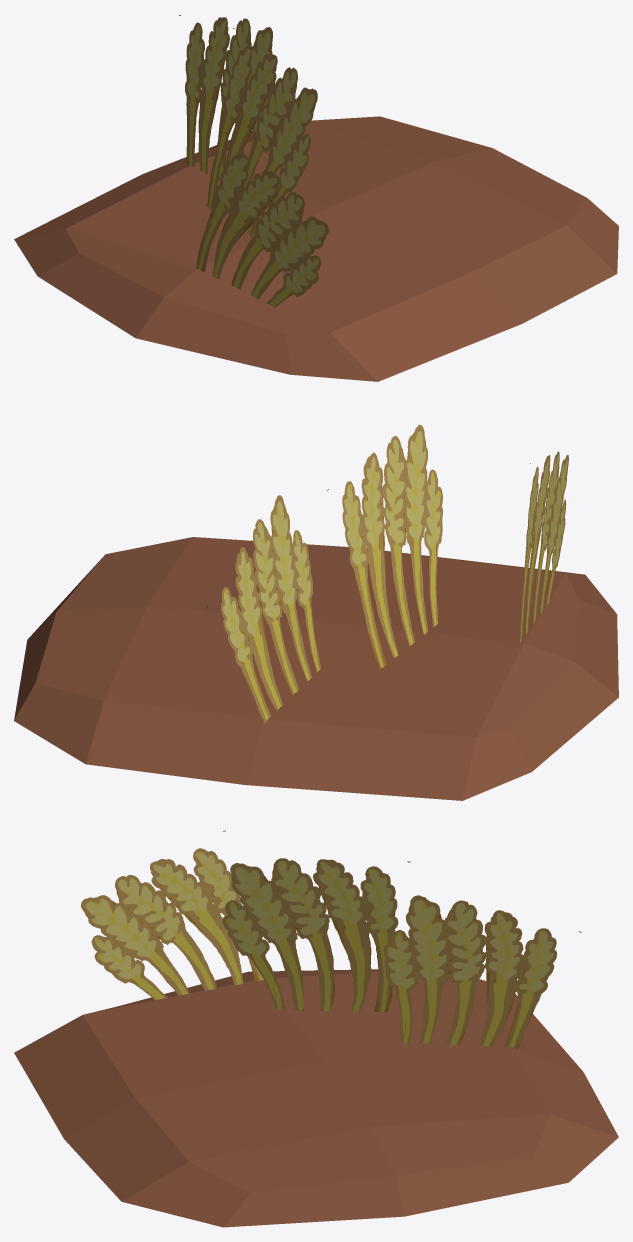
The model's file is FarmGround.fbx.
The picture shows the model from 3 angles, top to bottom: view 1: azimuth 30°, elevation 25°; view 2: azimuth 150°, elevation 25°; view 3: azimuth 270°, elevation 25°; orthographic projection. The views are drawn at different scales.
Parts seen in each view (by area): view 1: FarmSoil; view 2: FarmSoil; view 3: FarmSoil.
Part boxes in pixels (left/top/right/bottom): FarmSoil: left=14, top=15, right=618, bottom=381; FarmSoil: left=14, top=424, right=618, bottom=800; FarmSoil: left=14, top=830, right=618, bottom=1227.
Size of the model in its own units: 191 by 80.44 by 196.
2 materials, 1 textured.
